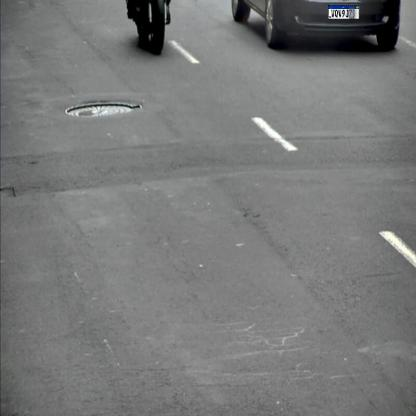PlacaM: (328, 5, 359, 19)
